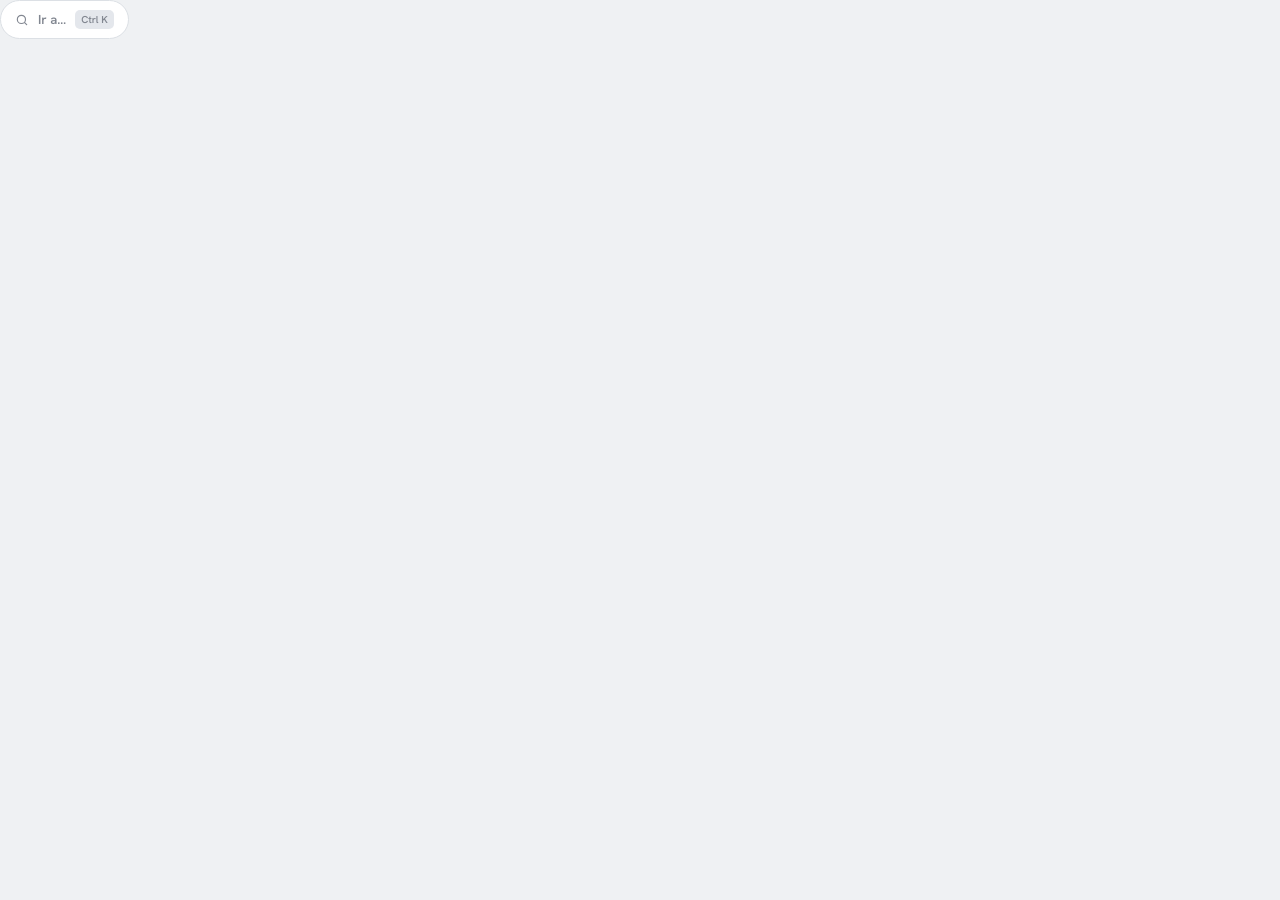
Test case: QuickNav › abre con Ctrl+K, filtra sin acentos y navega con Enter
Press k
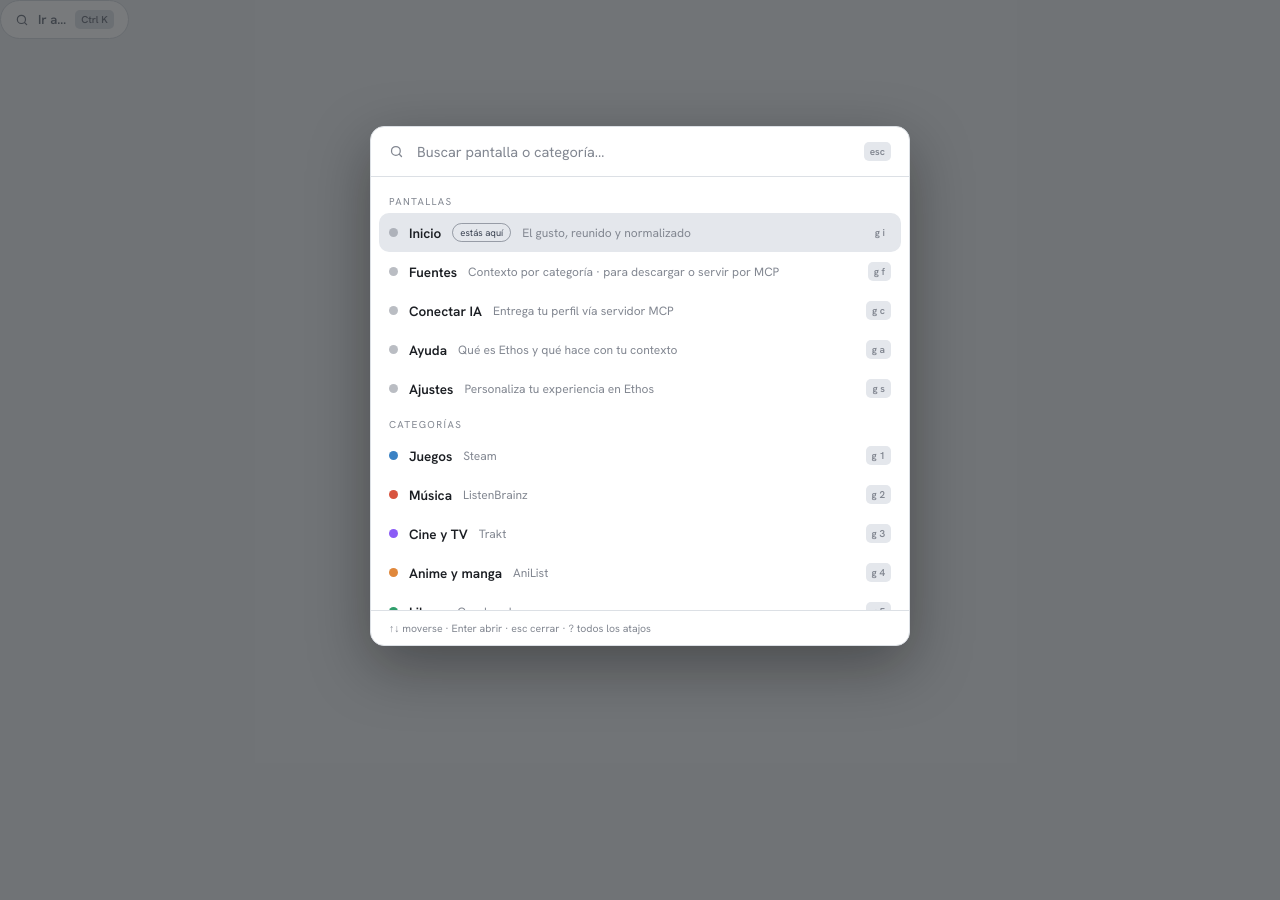
In the field named "Buscar destino": (634, 152) left=415, top=141, right=853, bottom=162, type "musica"
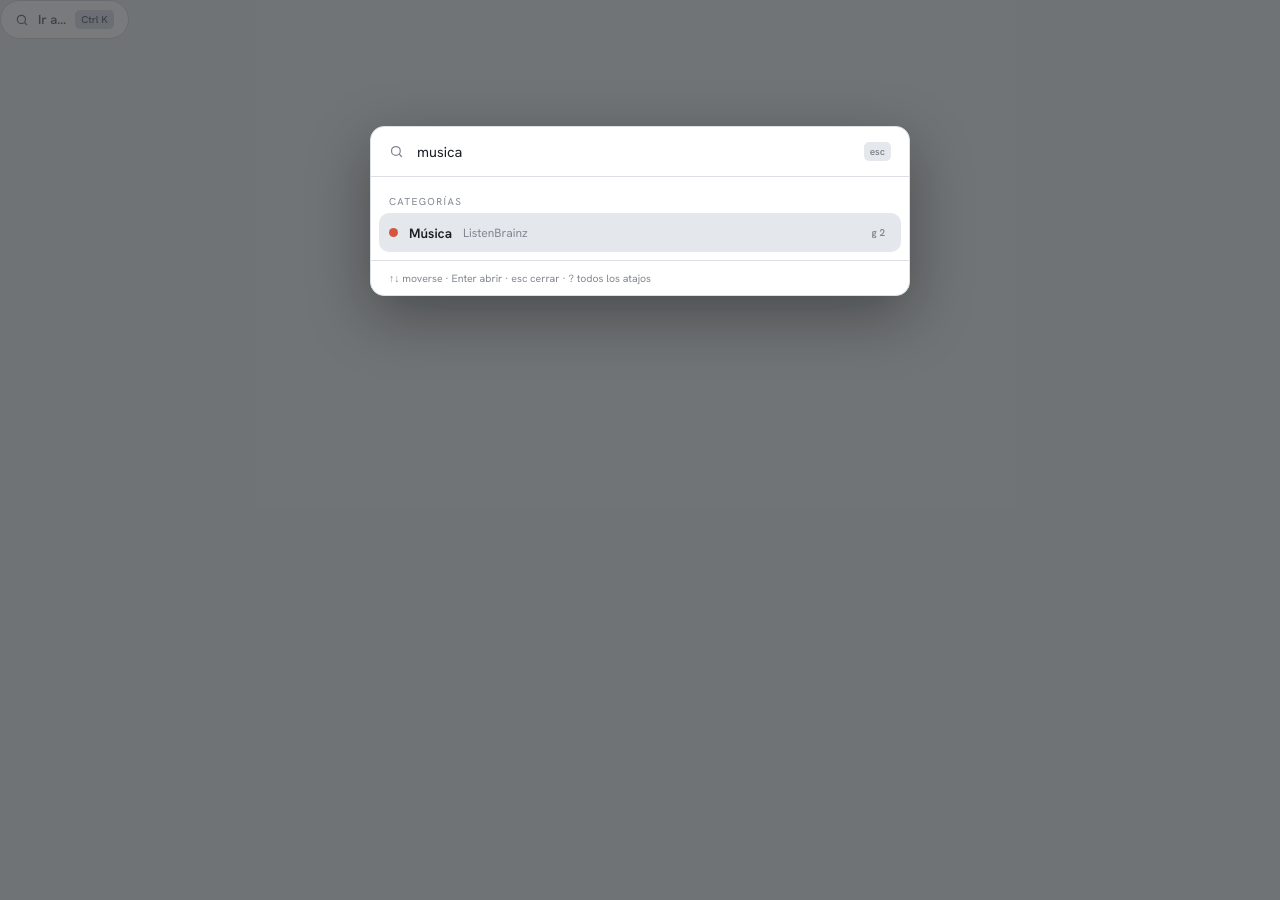
Check: the option "Música ListenBrainz g 2" is shown, box left=379, top=213, right=901, bottom=252
Check: the option "Fuentes" is gone
Press Enter in the field named "Buscar destino", box left=415, top=141, right=853, bottom=162
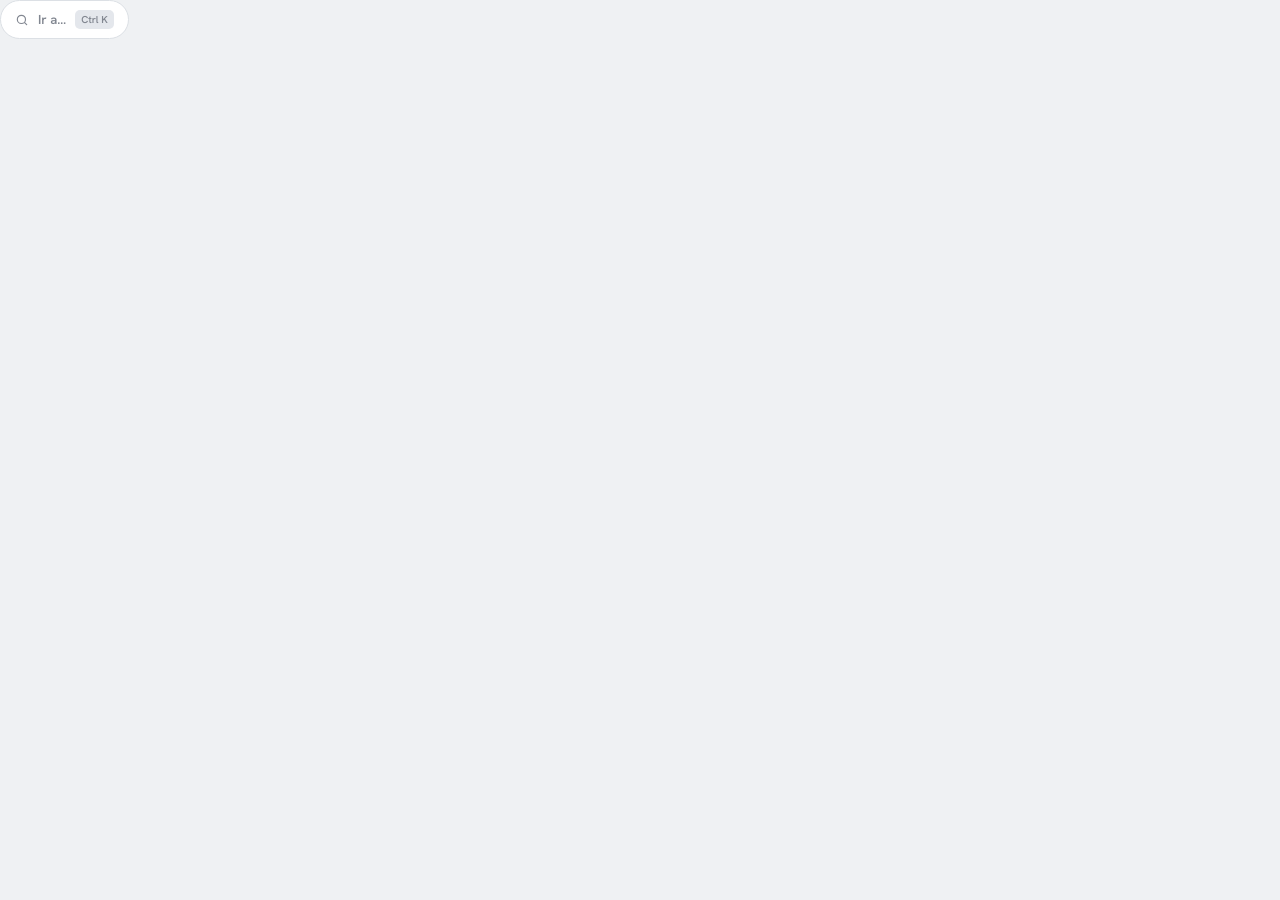
Check: the dialog is gone
